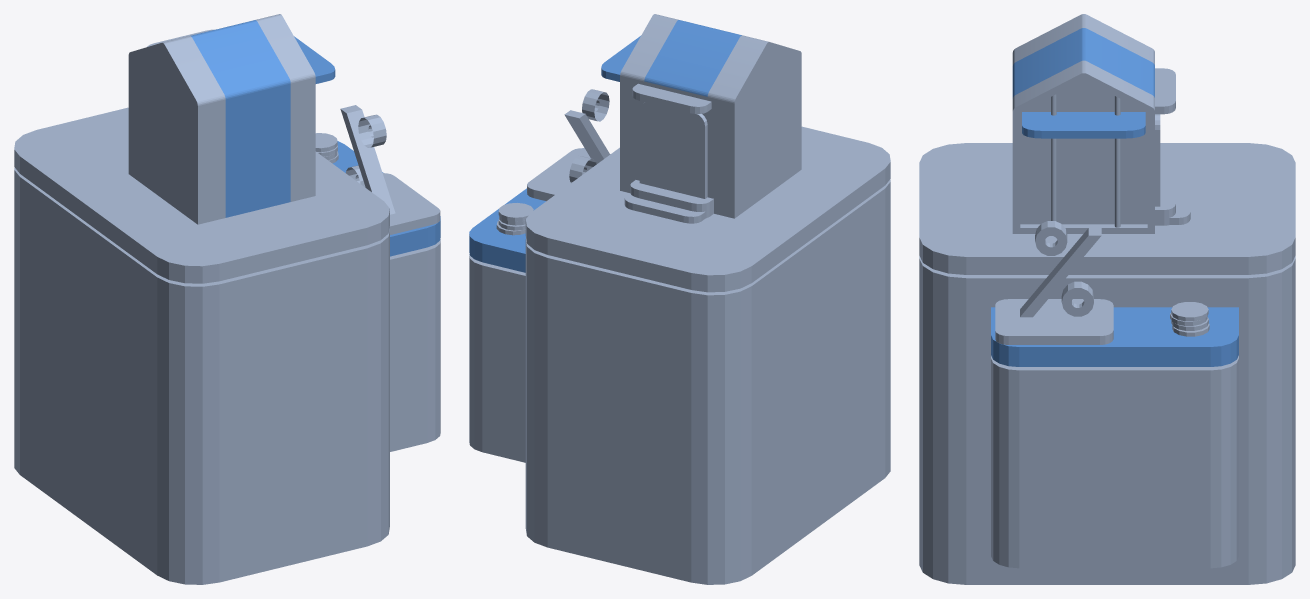
File: GUI.fbx
3 views of the same model, side by side, from view 1: azimuth 30°, elevation 25°; view 2: azimuth 150°, elevation 25°; view 3: azimuth 270°, elevation 25° (orthographic). The views are drawn at different scales.
Parts seen in each view (by area): view 1: Cylinder.007; view 2: Cylinder.007; view 3: Cylinder.007.
Part boxes in pixels (x1,y1,x2,y2): Cylinder.007: (14, 14, 440, 584); Cylinder.007: (469, 14, 890, 584); Cylinder.007: (919, 14, 1295, 584).
Bounding box in the file's own units: 248 × 368 × 257.
